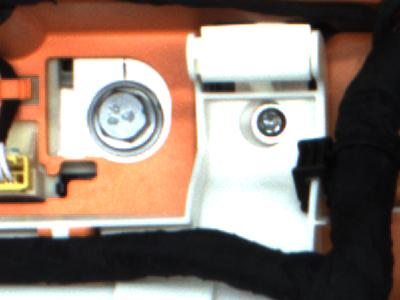nut_b: (89, 78, 165, 159)
screw_m: (247, 103, 291, 143)
